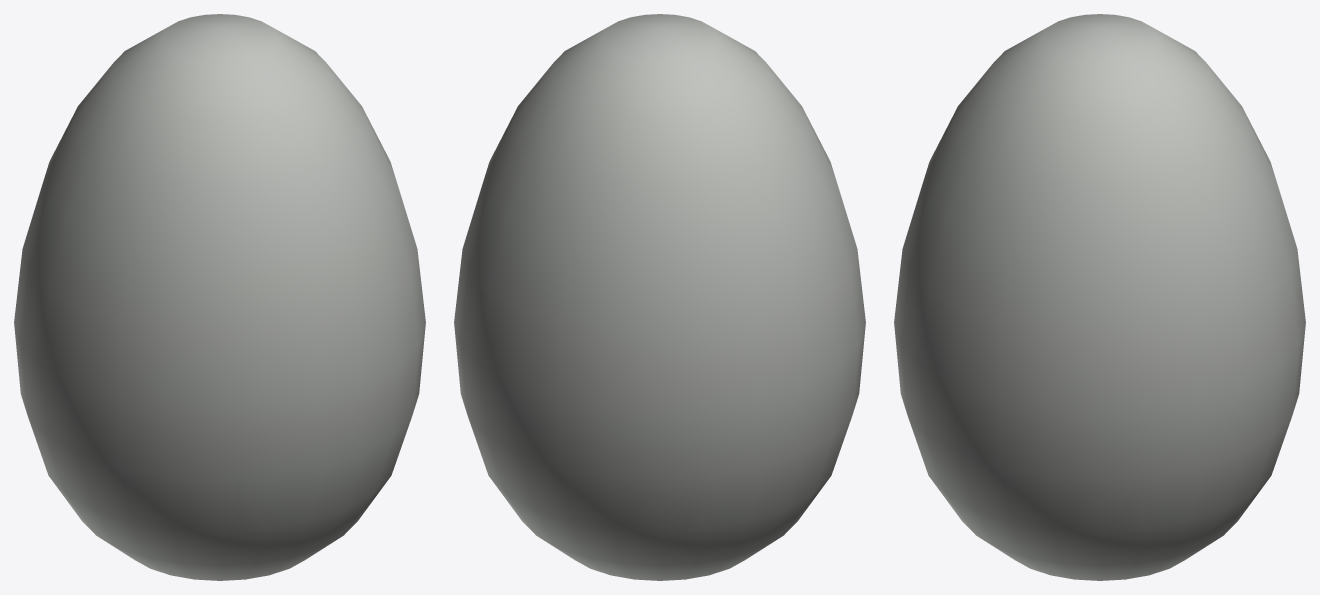
The model's file is Egg.fbx.
3 renders of one model, left to right at view 1: azimuth 30°, elevation 25°; view 2: azimuth 150°, elevation 25°; view 3: azimuth 270°, elevation 25°, orthographic.
Visible parts, largest first — view 1: Egg; view 2: Egg; view 3: Egg.
Part boxes in pixels (bbox=[...]): Egg: bbox=[14, 14, 425, 580]; Egg: bbox=[454, 14, 865, 580]; Egg: bbox=[894, 14, 1305, 580].
Bounding box in the file's own units: 67.64 × 96.55 × 67.64.
